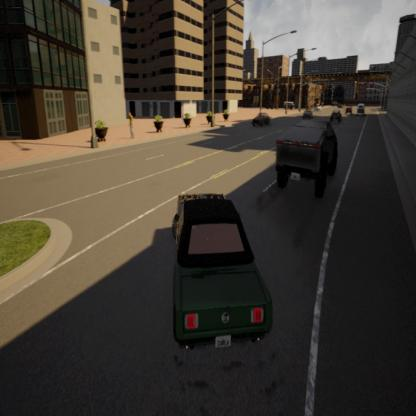Cars: (166, 190, 276, 356), (275, 118, 337, 197), (254, 112, 271, 126), (331, 108, 340, 124), (357, 103, 367, 115), (345, 105, 352, 113)
Pedestrian: (126, 109, 136, 145)
